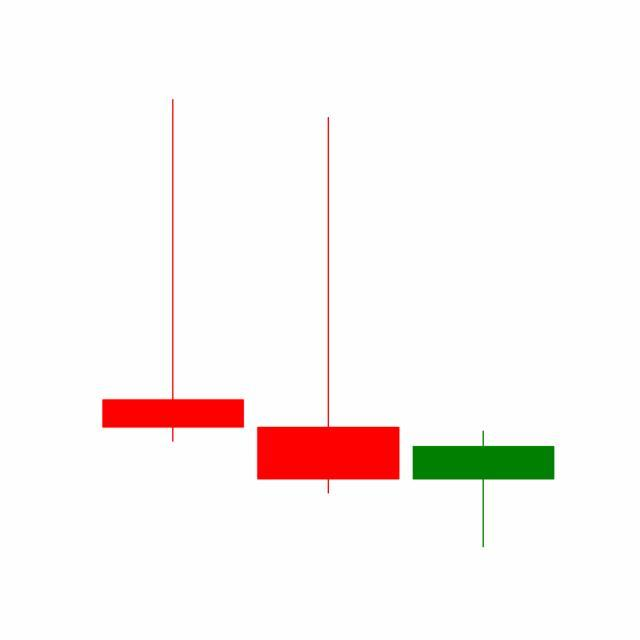Dragonfly Doji: (406, 430, 562, 550)
